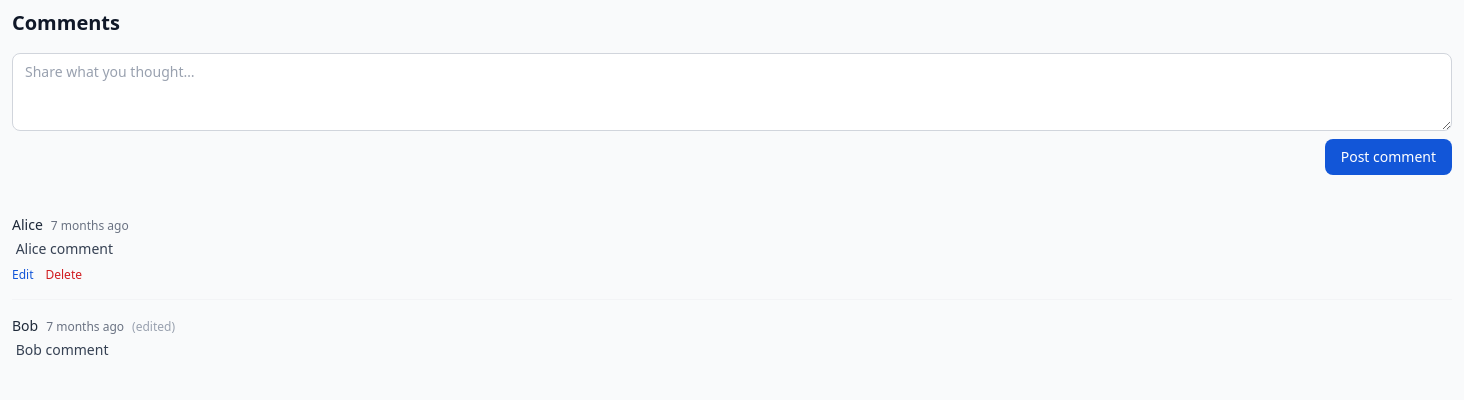
Test: CommentListComponent › shows inline validation instead of silently ignoring an empty comment
Click the button "Post comment".
click(1388, 157)  # box [1325,139,1452,175]
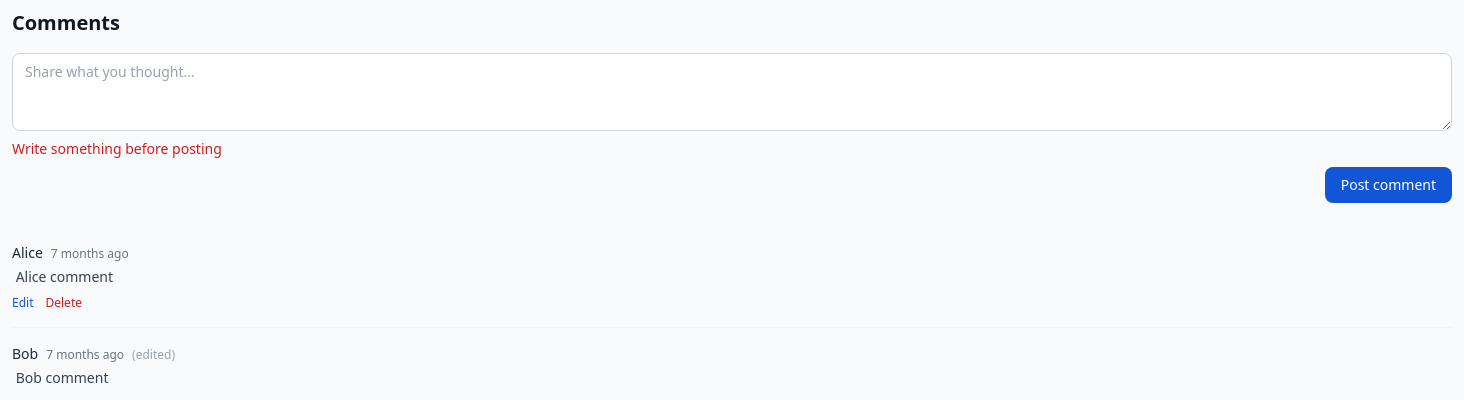
Result: the message "Write something before posting" is shown at [12,139,222,158]
